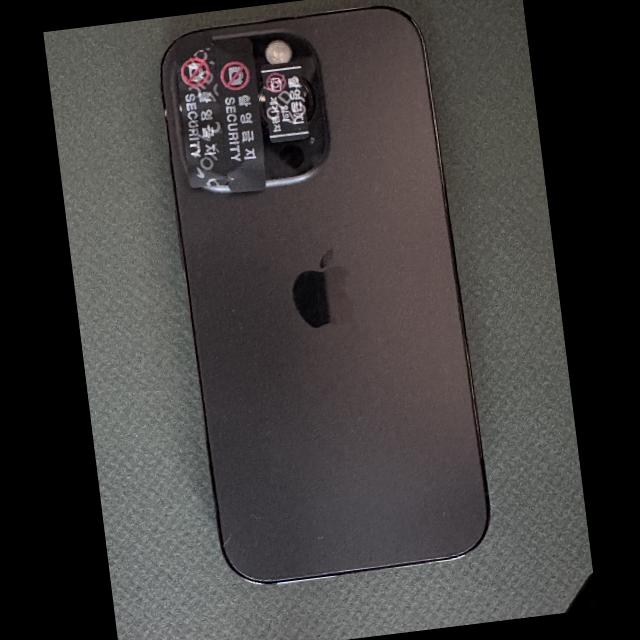lens: (258, 81, 269, 128)
phone: (161, 6, 489, 582)
sticker: (174, 35, 227, 188), (213, 37, 265, 192), (260, 61, 309, 142)
